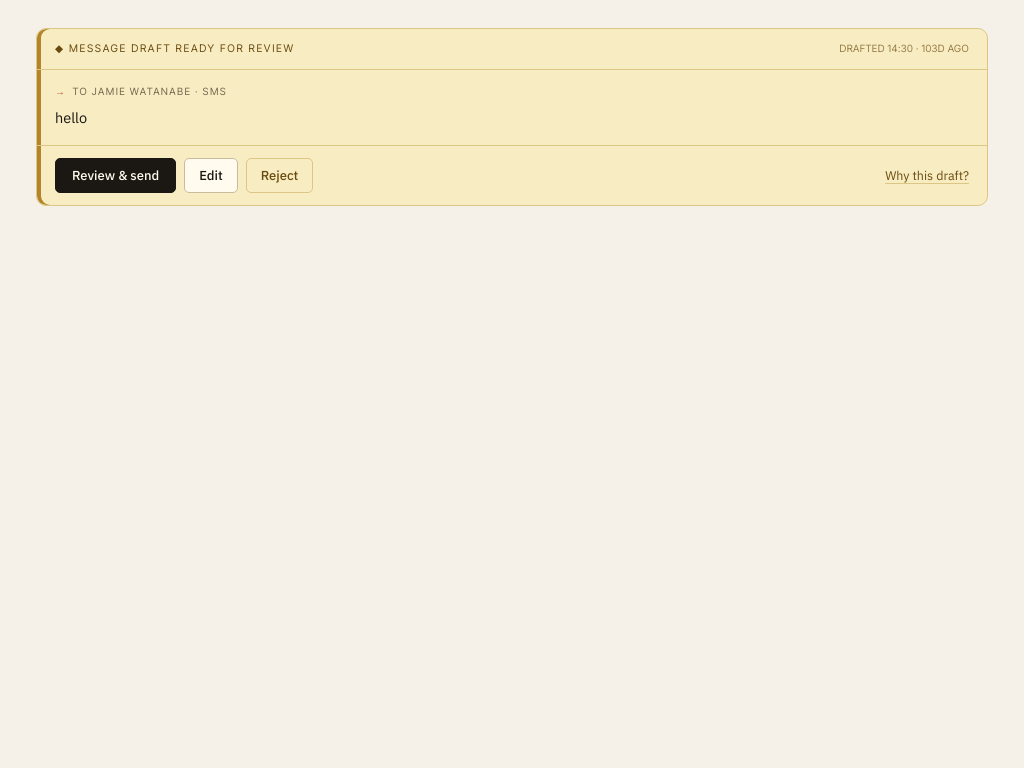
Scenario: DraftHeroCard › why this draft popover › should show the structured known-context fallback when reasoning is null
Step 1. Click the button with test id "pending-draft-why" → [927, 175], box [885,166,969,185]
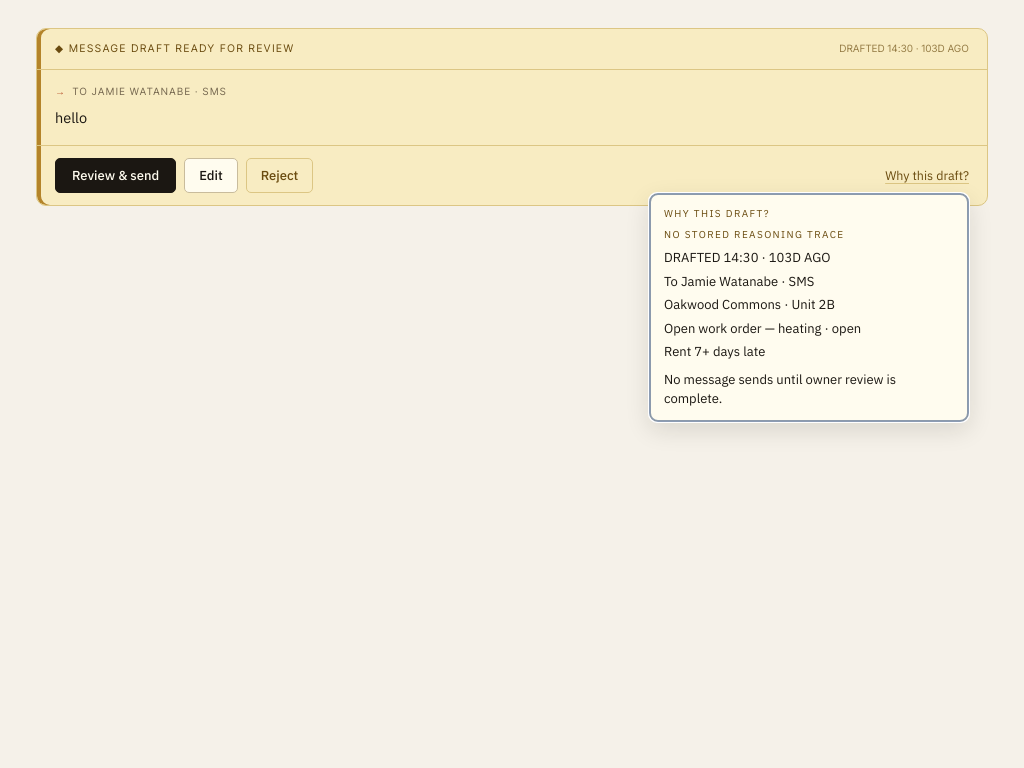
Expected: the element with test id "pending-draft-why-fallback" shows "No stored reasoning trace", [664,228,844,241]
Expected: the element with test id "pending-draft-why-fallback" shows "DRAFTED", [664,249,830,266]
Expected: the element with test id "pending-draft-why-fallback" shows "To Jamie Watanabe · SMS", [664,228,896,407]
